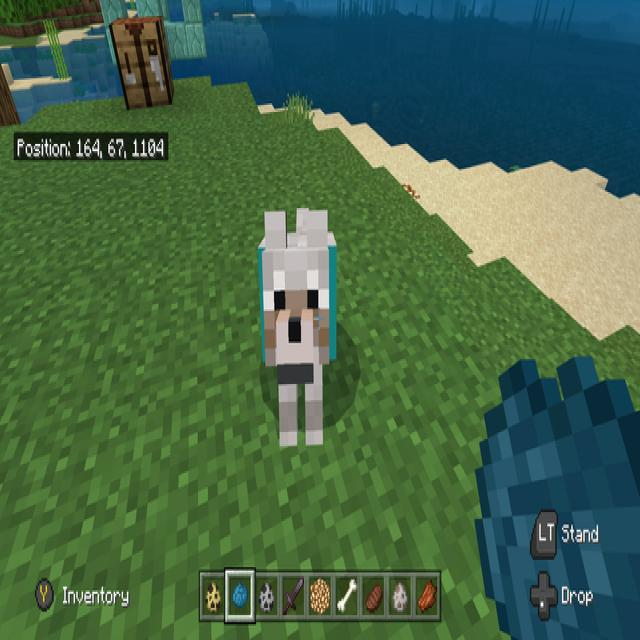Wolf: (257, 206, 337, 444)
